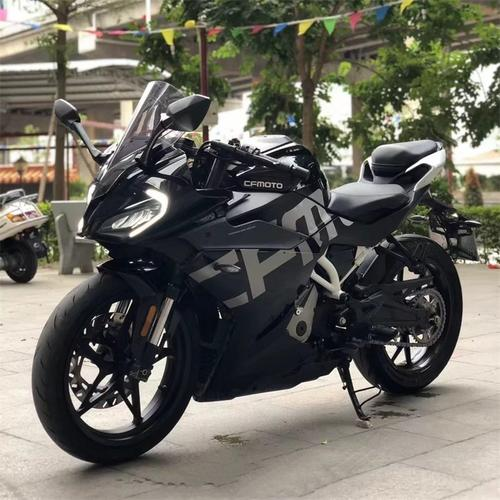摩托车: (26, 80, 471, 467)
